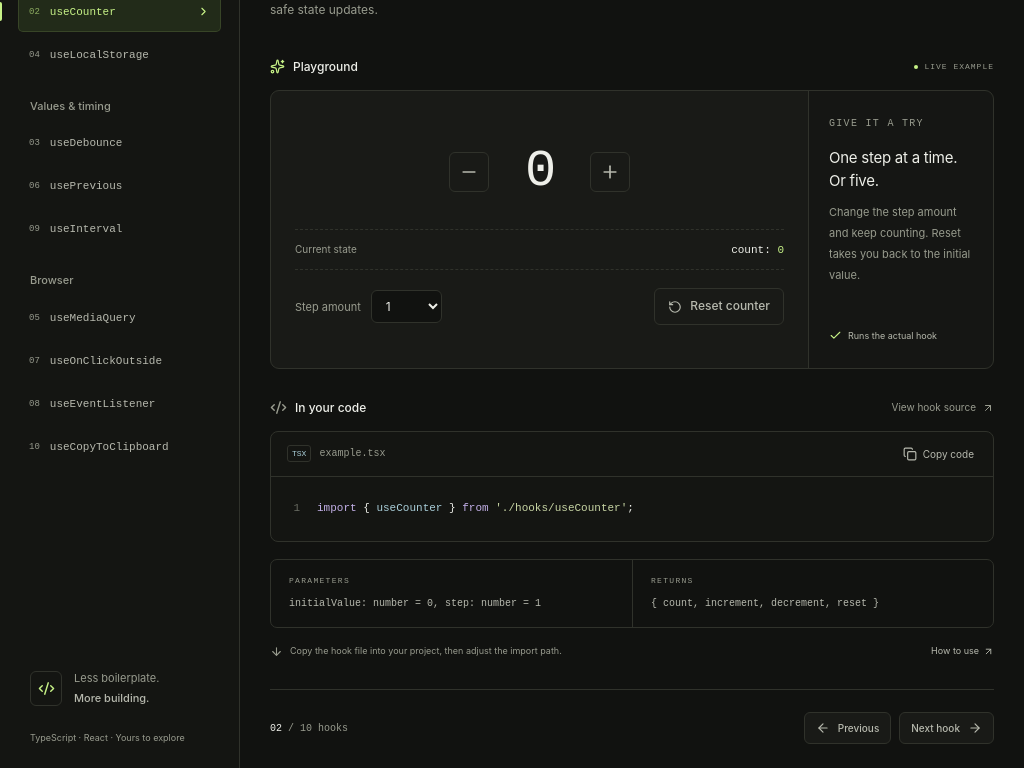
Test case: playground › supports direct hash links and previous/next navigation
This screenshot has width=1024, height=768.
(page scrolled)
Click the button "Previous" at (848, 728), box [804,712,891,744]
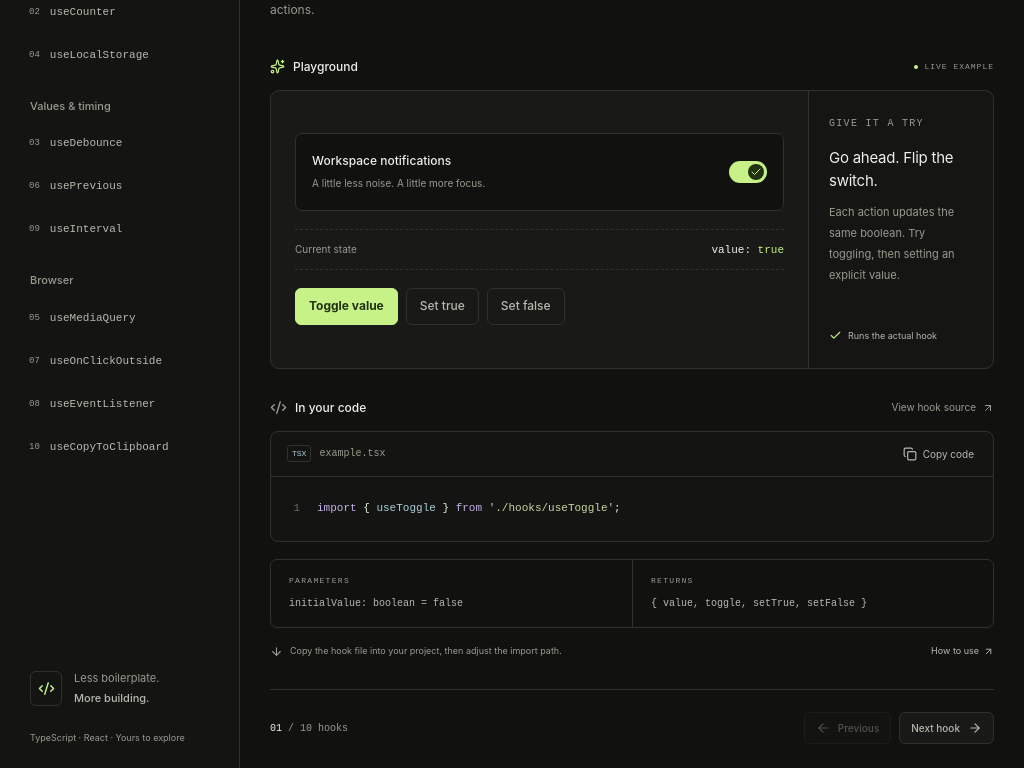
Result: the button "Previous" is disabled at [804,712,891,744]
Click the button "Next hook" at (947, 728), box [899,712,994,744]
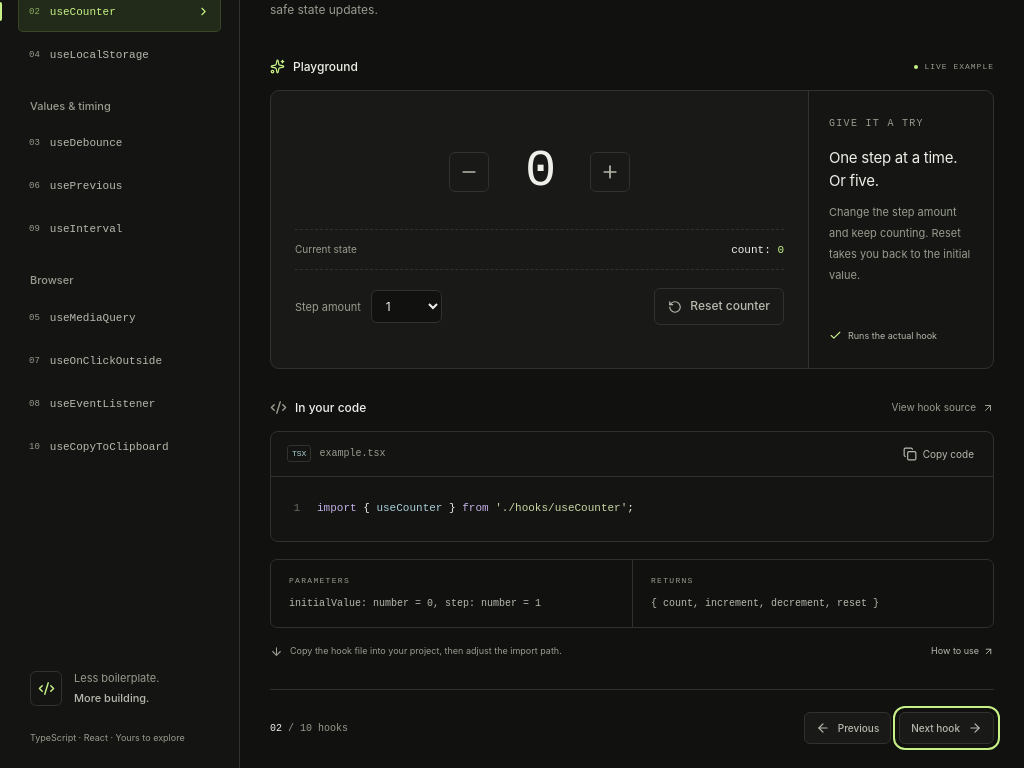
Click the link "10 useCopyToClipboard" at (99, 446), box [29,440,169,452]
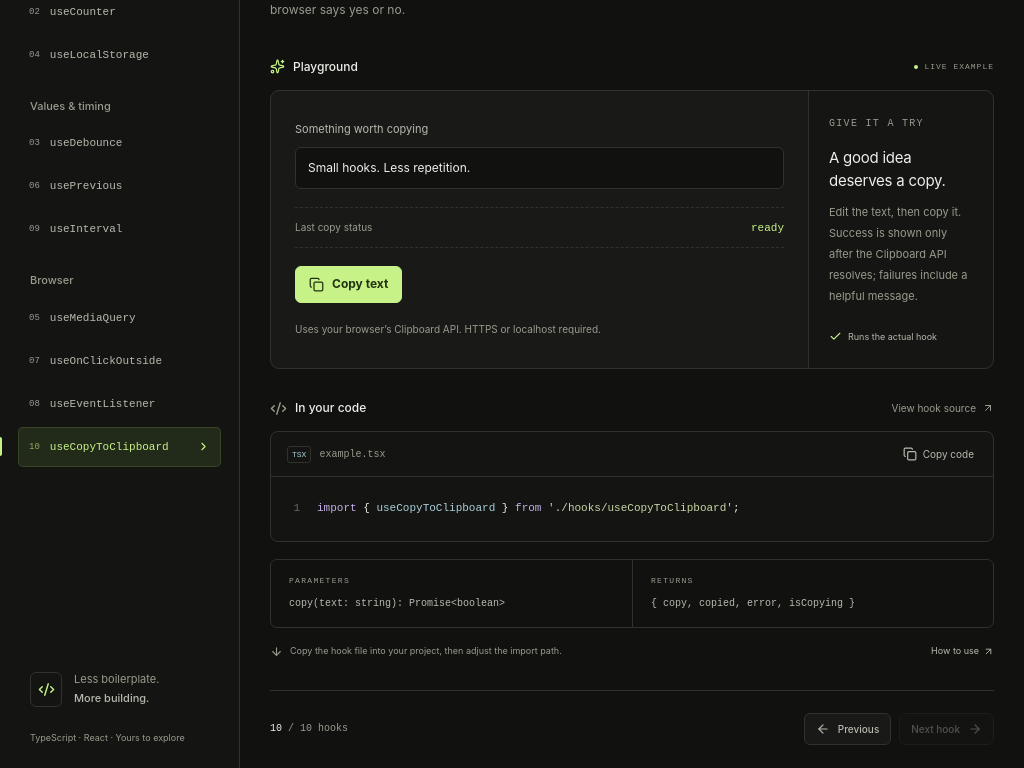
Result: the button "Next hook" is disabled at [899,713,994,745]
